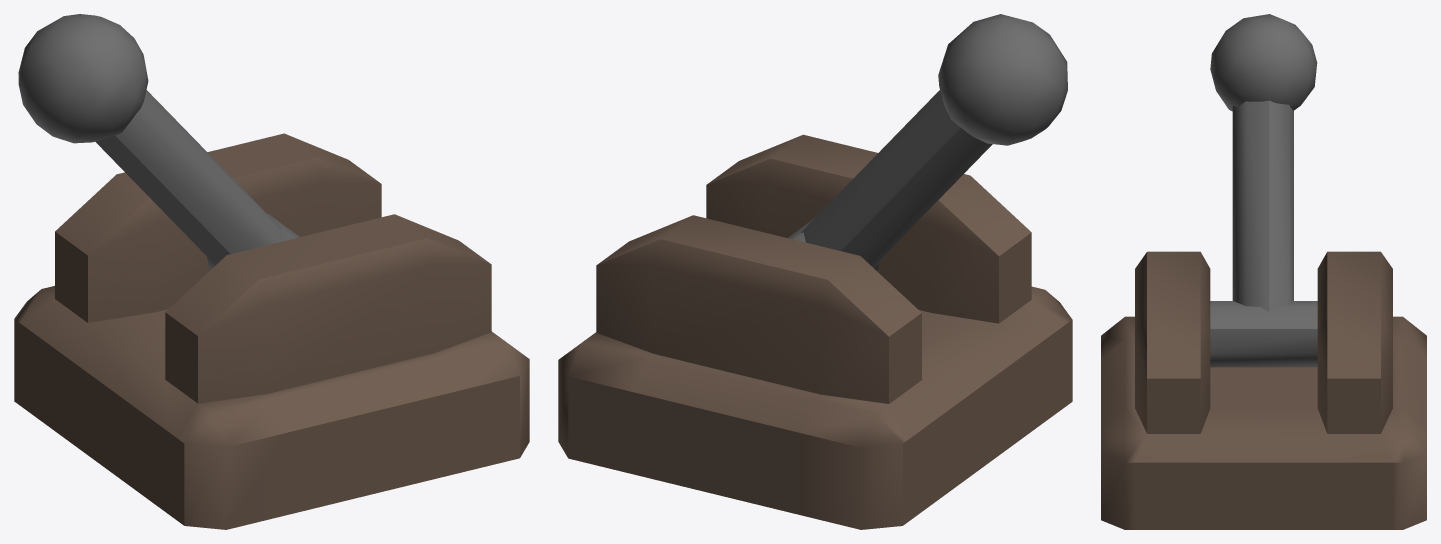
File: rail_switch.glb
The picture shows the model from 3 angles, left to right: view 1: azimuth 30°, elevation 25°; view 2: azimuth 150°, elevation 25°; view 3: azimuth 270°, elevation 25°; orthographic projection. The views are drawn at different scales.
Visible parts, largest first — view 1: Object_3; view 2: Object_3; view 3: Object_3.
Boxes of the visible parts, box(x1,y1,x2,y2) form: Object_3: box(14, 14, 529, 529); Object_3: box(558, 14, 1072, 529); Object_3: box(1101, 14, 1426, 529).
Size of the model in its own units: 0.3133 by 0.3208 by 0.2588.
